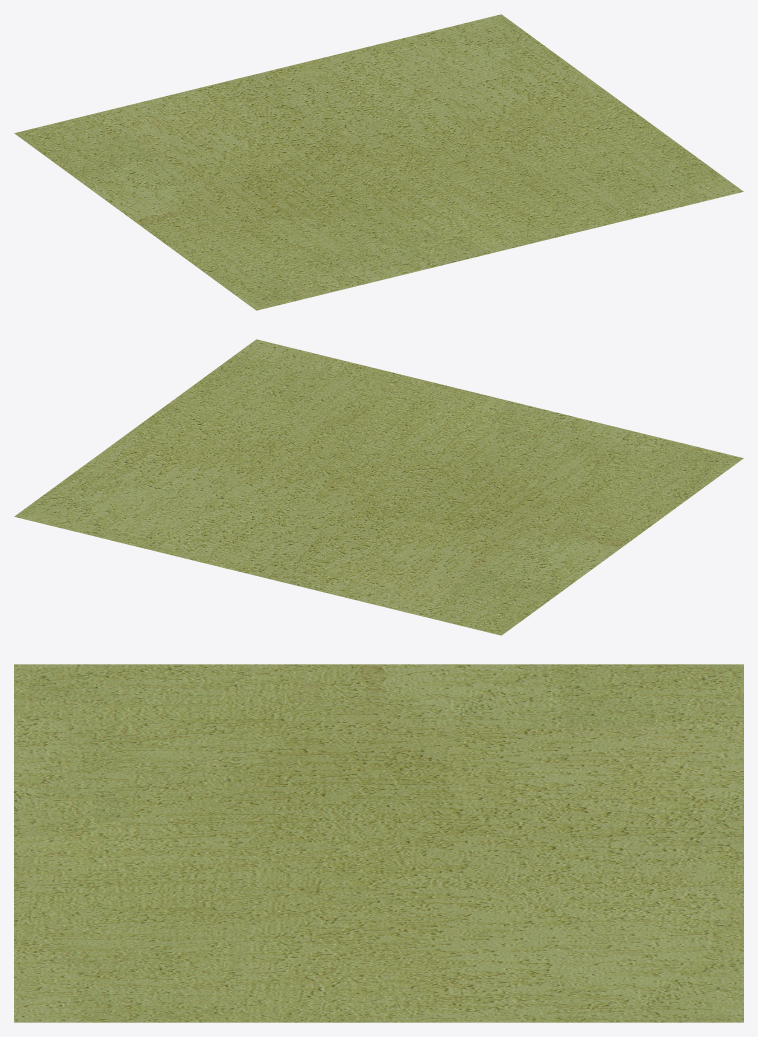
Rendered from TestMap.FBX.
3 renders of one model, top to bottom at view 1: azimuth 30°, elevation 25°; view 2: azimuth 150°, elevation 25°; view 3: azimuth 270°, elevation 25°, orthographic. The views are drawn at different scales.
Parts seen in each view (by area): view 1: Plane001; view 2: Plane001; view 3: Plane001.
Part boxes in pixels (x1,y1,x2,y2): Plane001: (14, 14, 743, 310); Plane001: (14, 339, 743, 635); Plane001: (14, 664, 743, 1022).
Bounding box in the file's own units: 2446 × 2107 × 0.
1 material, 1 textured.
